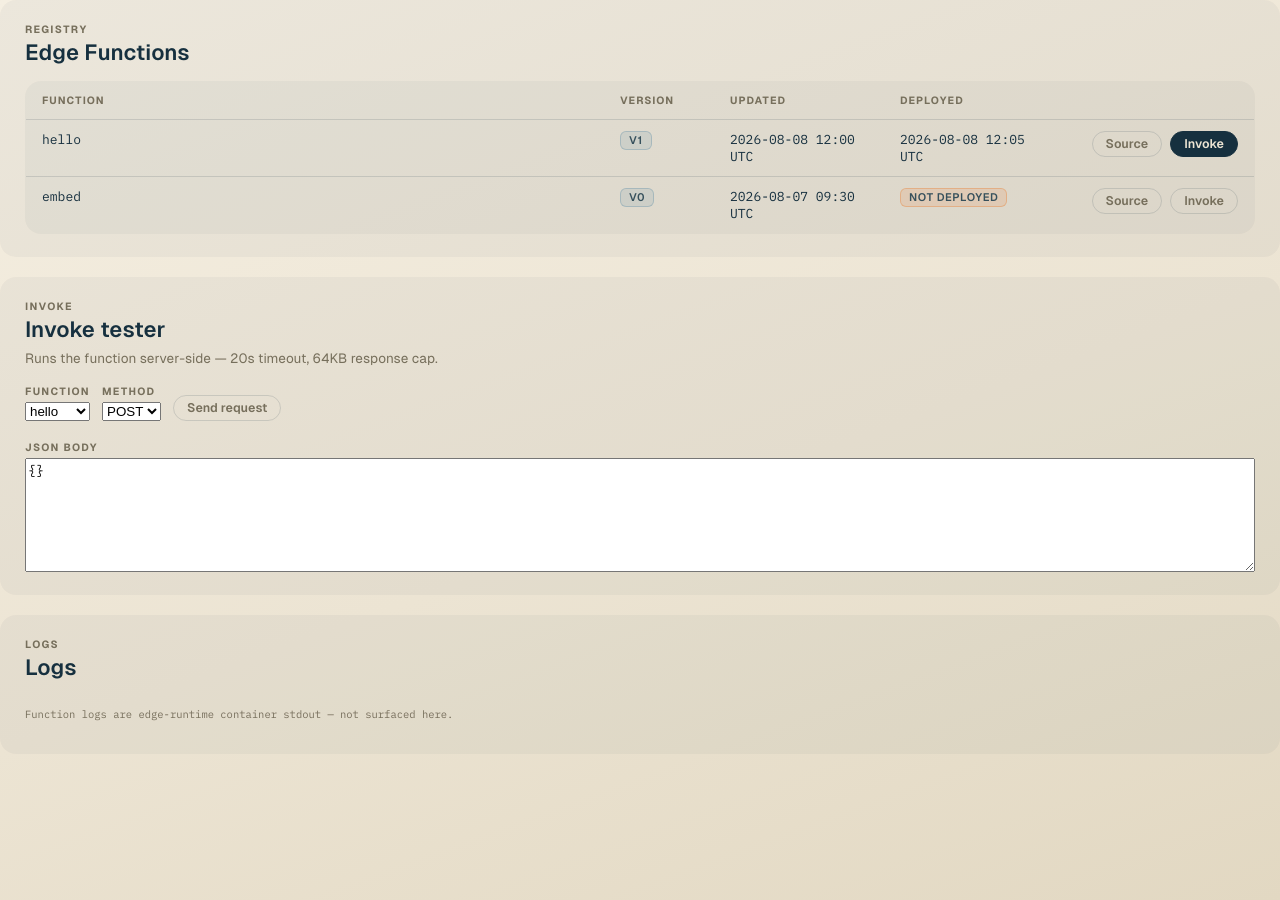
Scenario: FunctionsConsole — source viewer › shows the registry source read-only without any fetch
Click the button "Source" in the row of "hello". click: (1127,144)
box: [1092,131,1162,157]
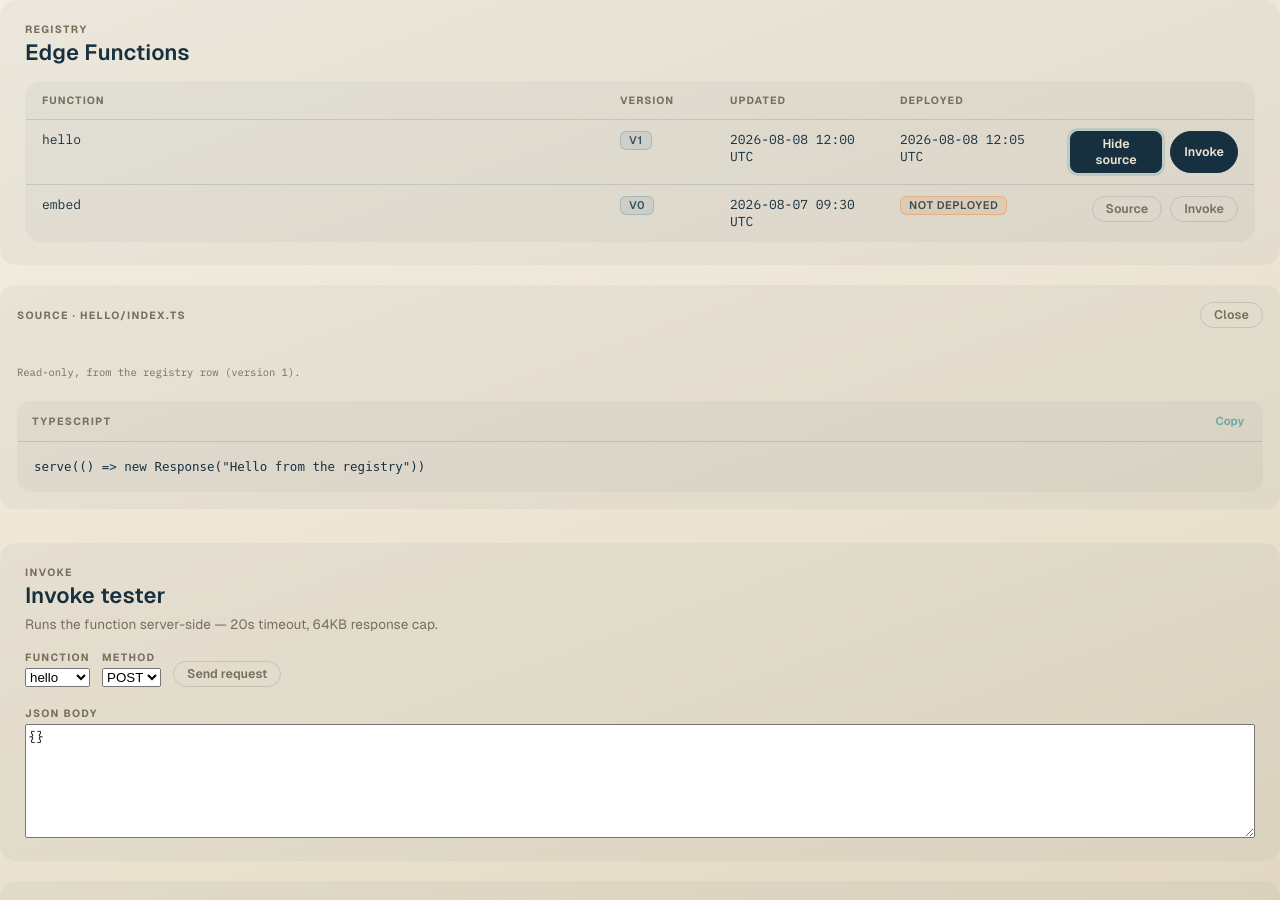
Expected: the text "serve(() => new Response(\"Hello from the registry\"))" is shown, [34,459,425,474]
Click the button "Hide source". click: (1116,152)
box: [1070,131,1162,173]
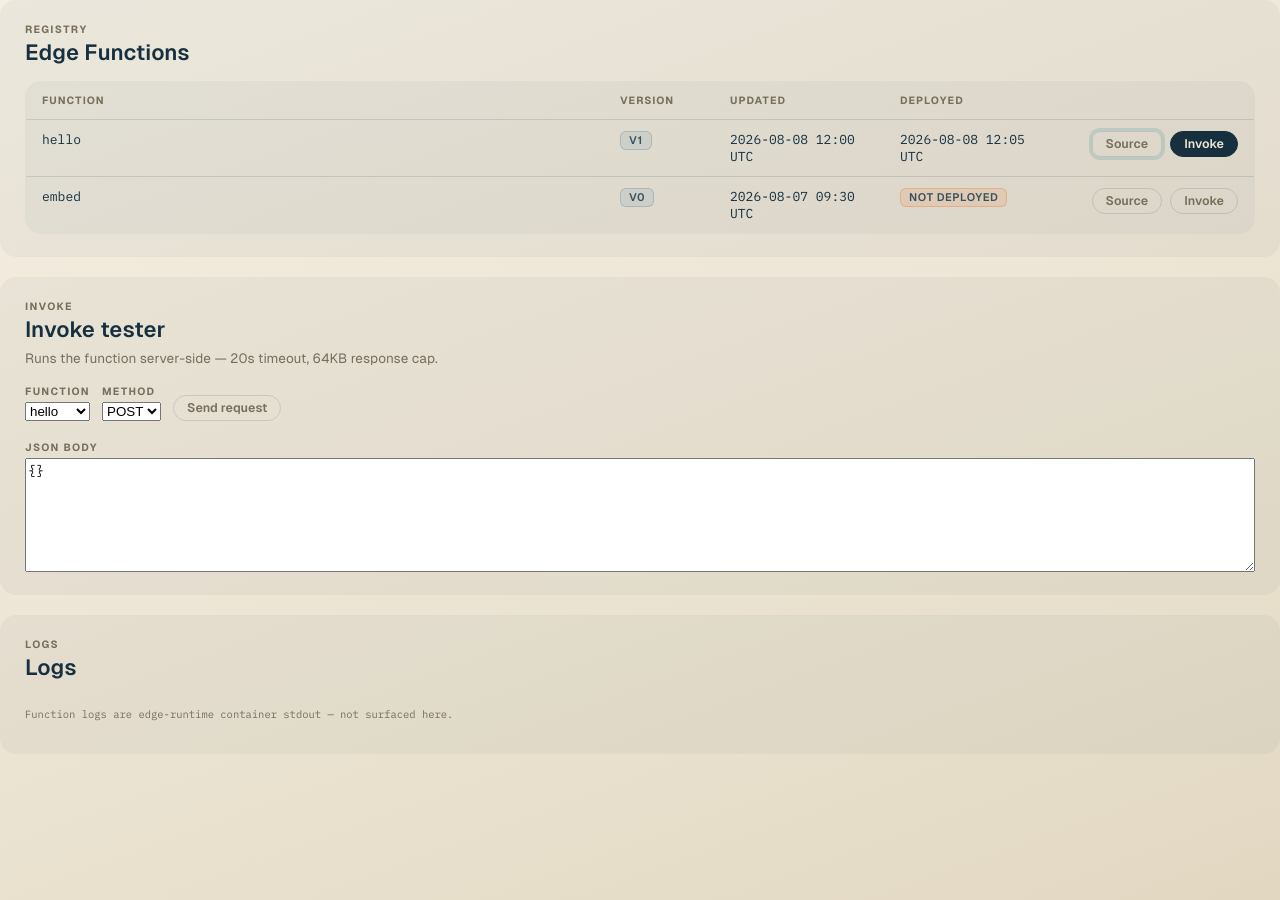
Expected: the text "serve(() => new Response(\"Hello from the registry\"))" is gone
